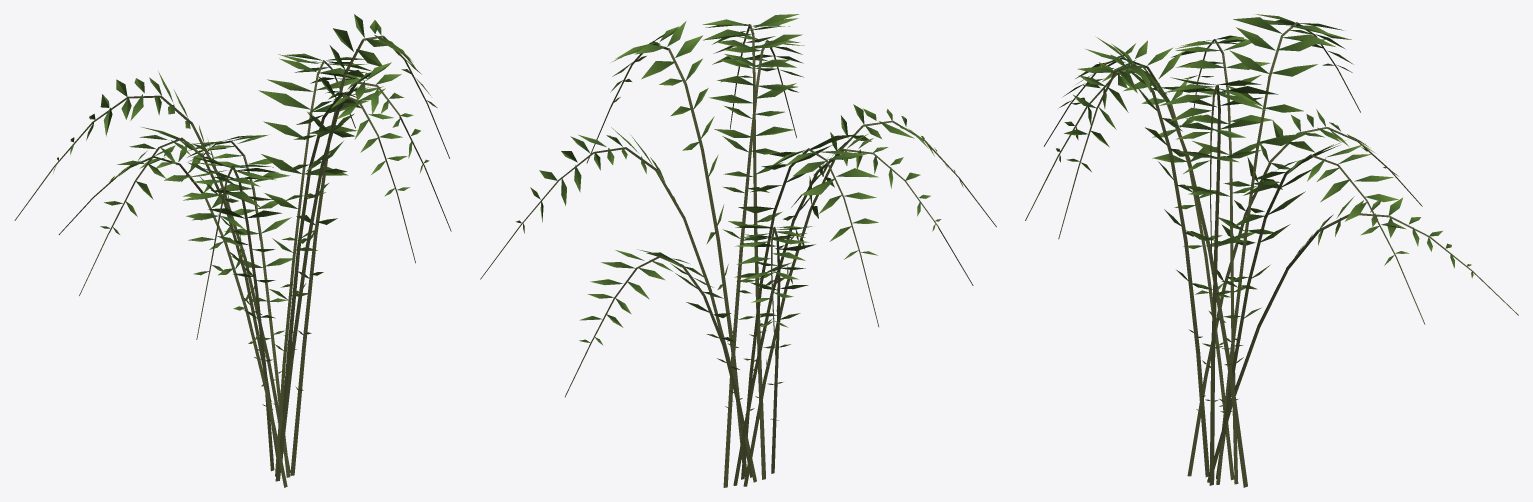
Rendered from forest_fern_001_a_LOD2.gltf.
The picture shows the model from 3 angles, left to right: view 1: azimuth 30°, elevation 25°; view 2: azimuth 150°, elevation 25°; view 3: azimuth 270°, elevation 25°; orthographic projection. The views are drawn at different scales.
Parts seen in each view (by area): view 1: forest_fern_001_a_LOD2; view 2: forest_fern_001_a_LOD2; view 3: forest_fern_001_a_LOD2.
Part boxes in pixels (x1,y1,x2,y2): forest_fern_001_a_LOD2: (14, 14, 451, 487); forest_fern_001_a_LOD2: (480, 14, 996, 487); forest_fern_001_a_LOD2: (1025, 14, 1518, 487).
Size of the model in its own units: 1.92 by 2.02 by 2.01.
1 material, 1 textured.
